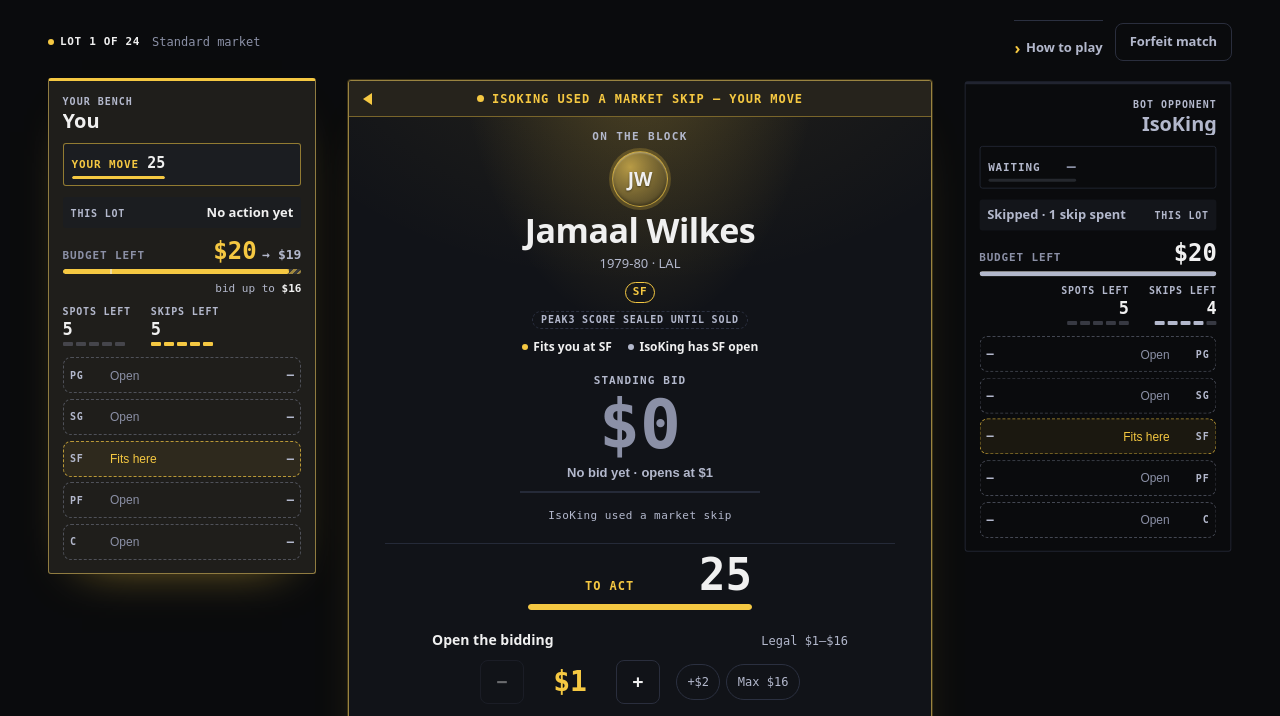
the proposed bid is local and immediate › steps the figure, the action label and the projected budget with no request
Check: the text with test id "td-bid-amount" reads "$1", box 553,665 -> 587,698
Click the button with test id "td-bid-plus" at (638, 682), box 616,660 -> 660,704
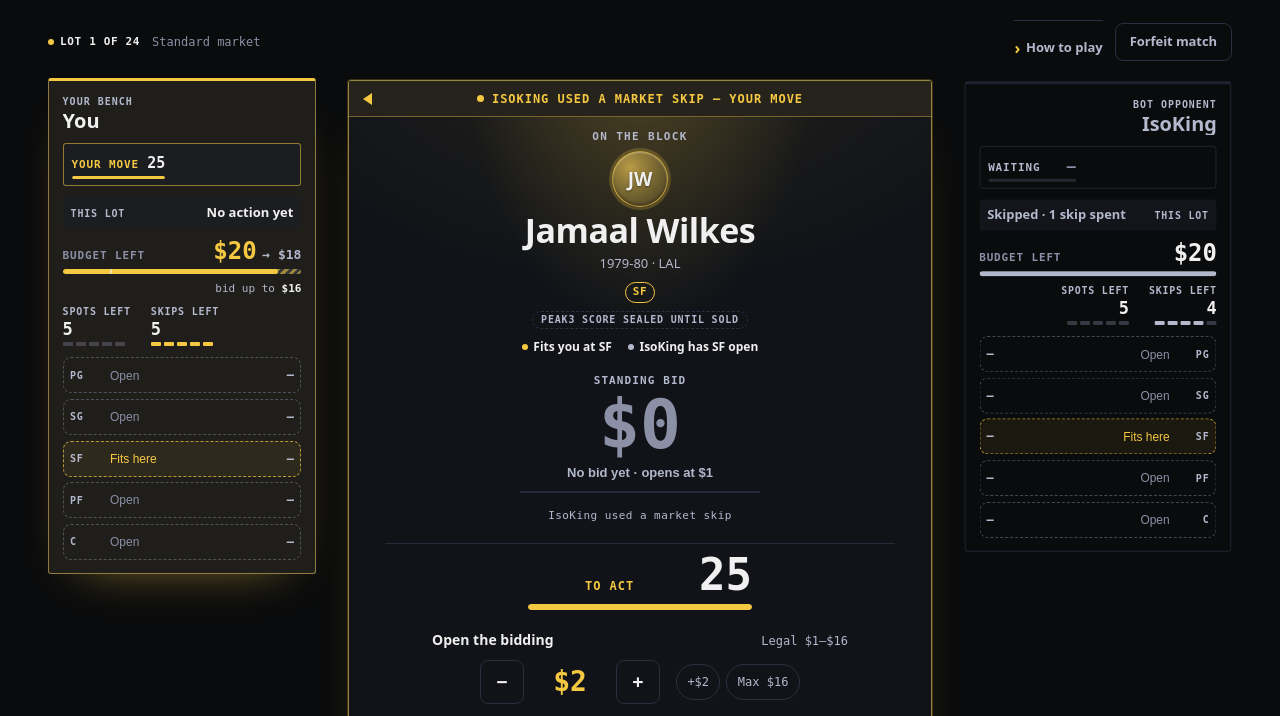
Click the button with test id "td-bid-plus" at (638, 682), box 616,660 -> 660,704
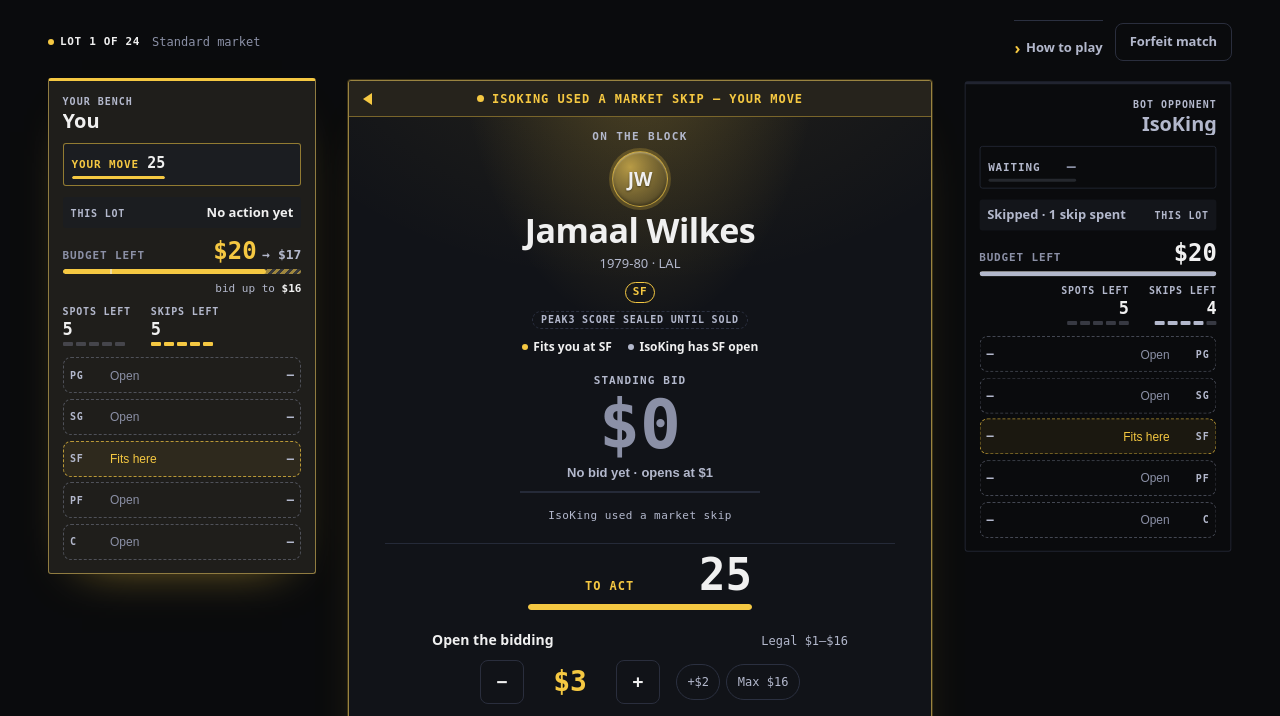
Click the button with test id "td-bid-plus-2" at (698, 682), box 676,664 -> 720,700
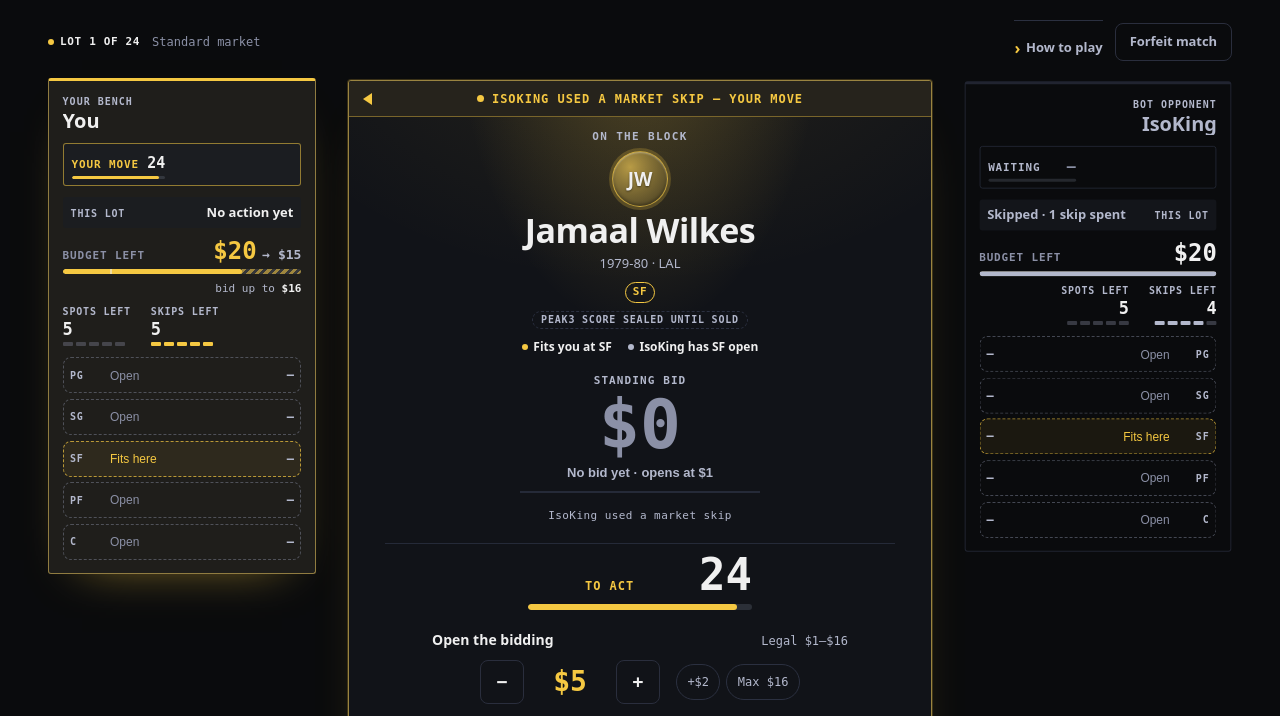
Check: the text with test id "td-bid-amount" reads "$5", box 553,665 -> 587,698
